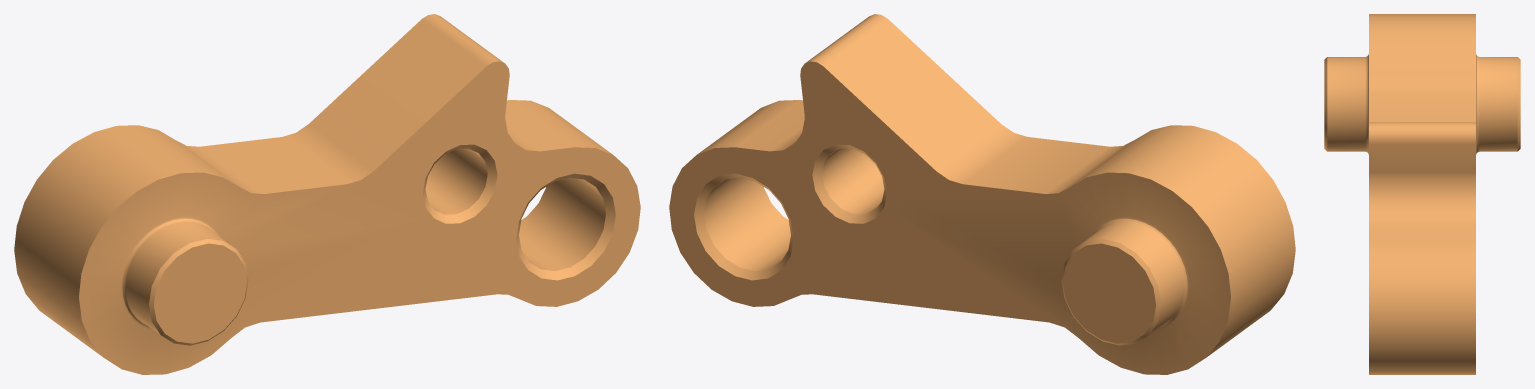
Rendered from left_knuckle.dae.
3 views of the same model, side by side, from view 1: azimuth 30°, elevation 25°; view 2: azimuth 150°, elevation 25°; view 3: azimuth 270°, elevation 25° (orthographic). The views are drawn at different scales.
Visible parts, largest first — view 1: left_knuckle; view 2: left_knuckle; view 3: left_knuckle.
Part boxes in pixels (x1,y1,x2,y2): left_knuckle: (14,14,640,374); left_knuckle: (669,14,1295,374); left_knuckle: (1324,14,1520,374).
Bounding box in the file's own units: 0.0451 × 0.0165 × 0.02.
